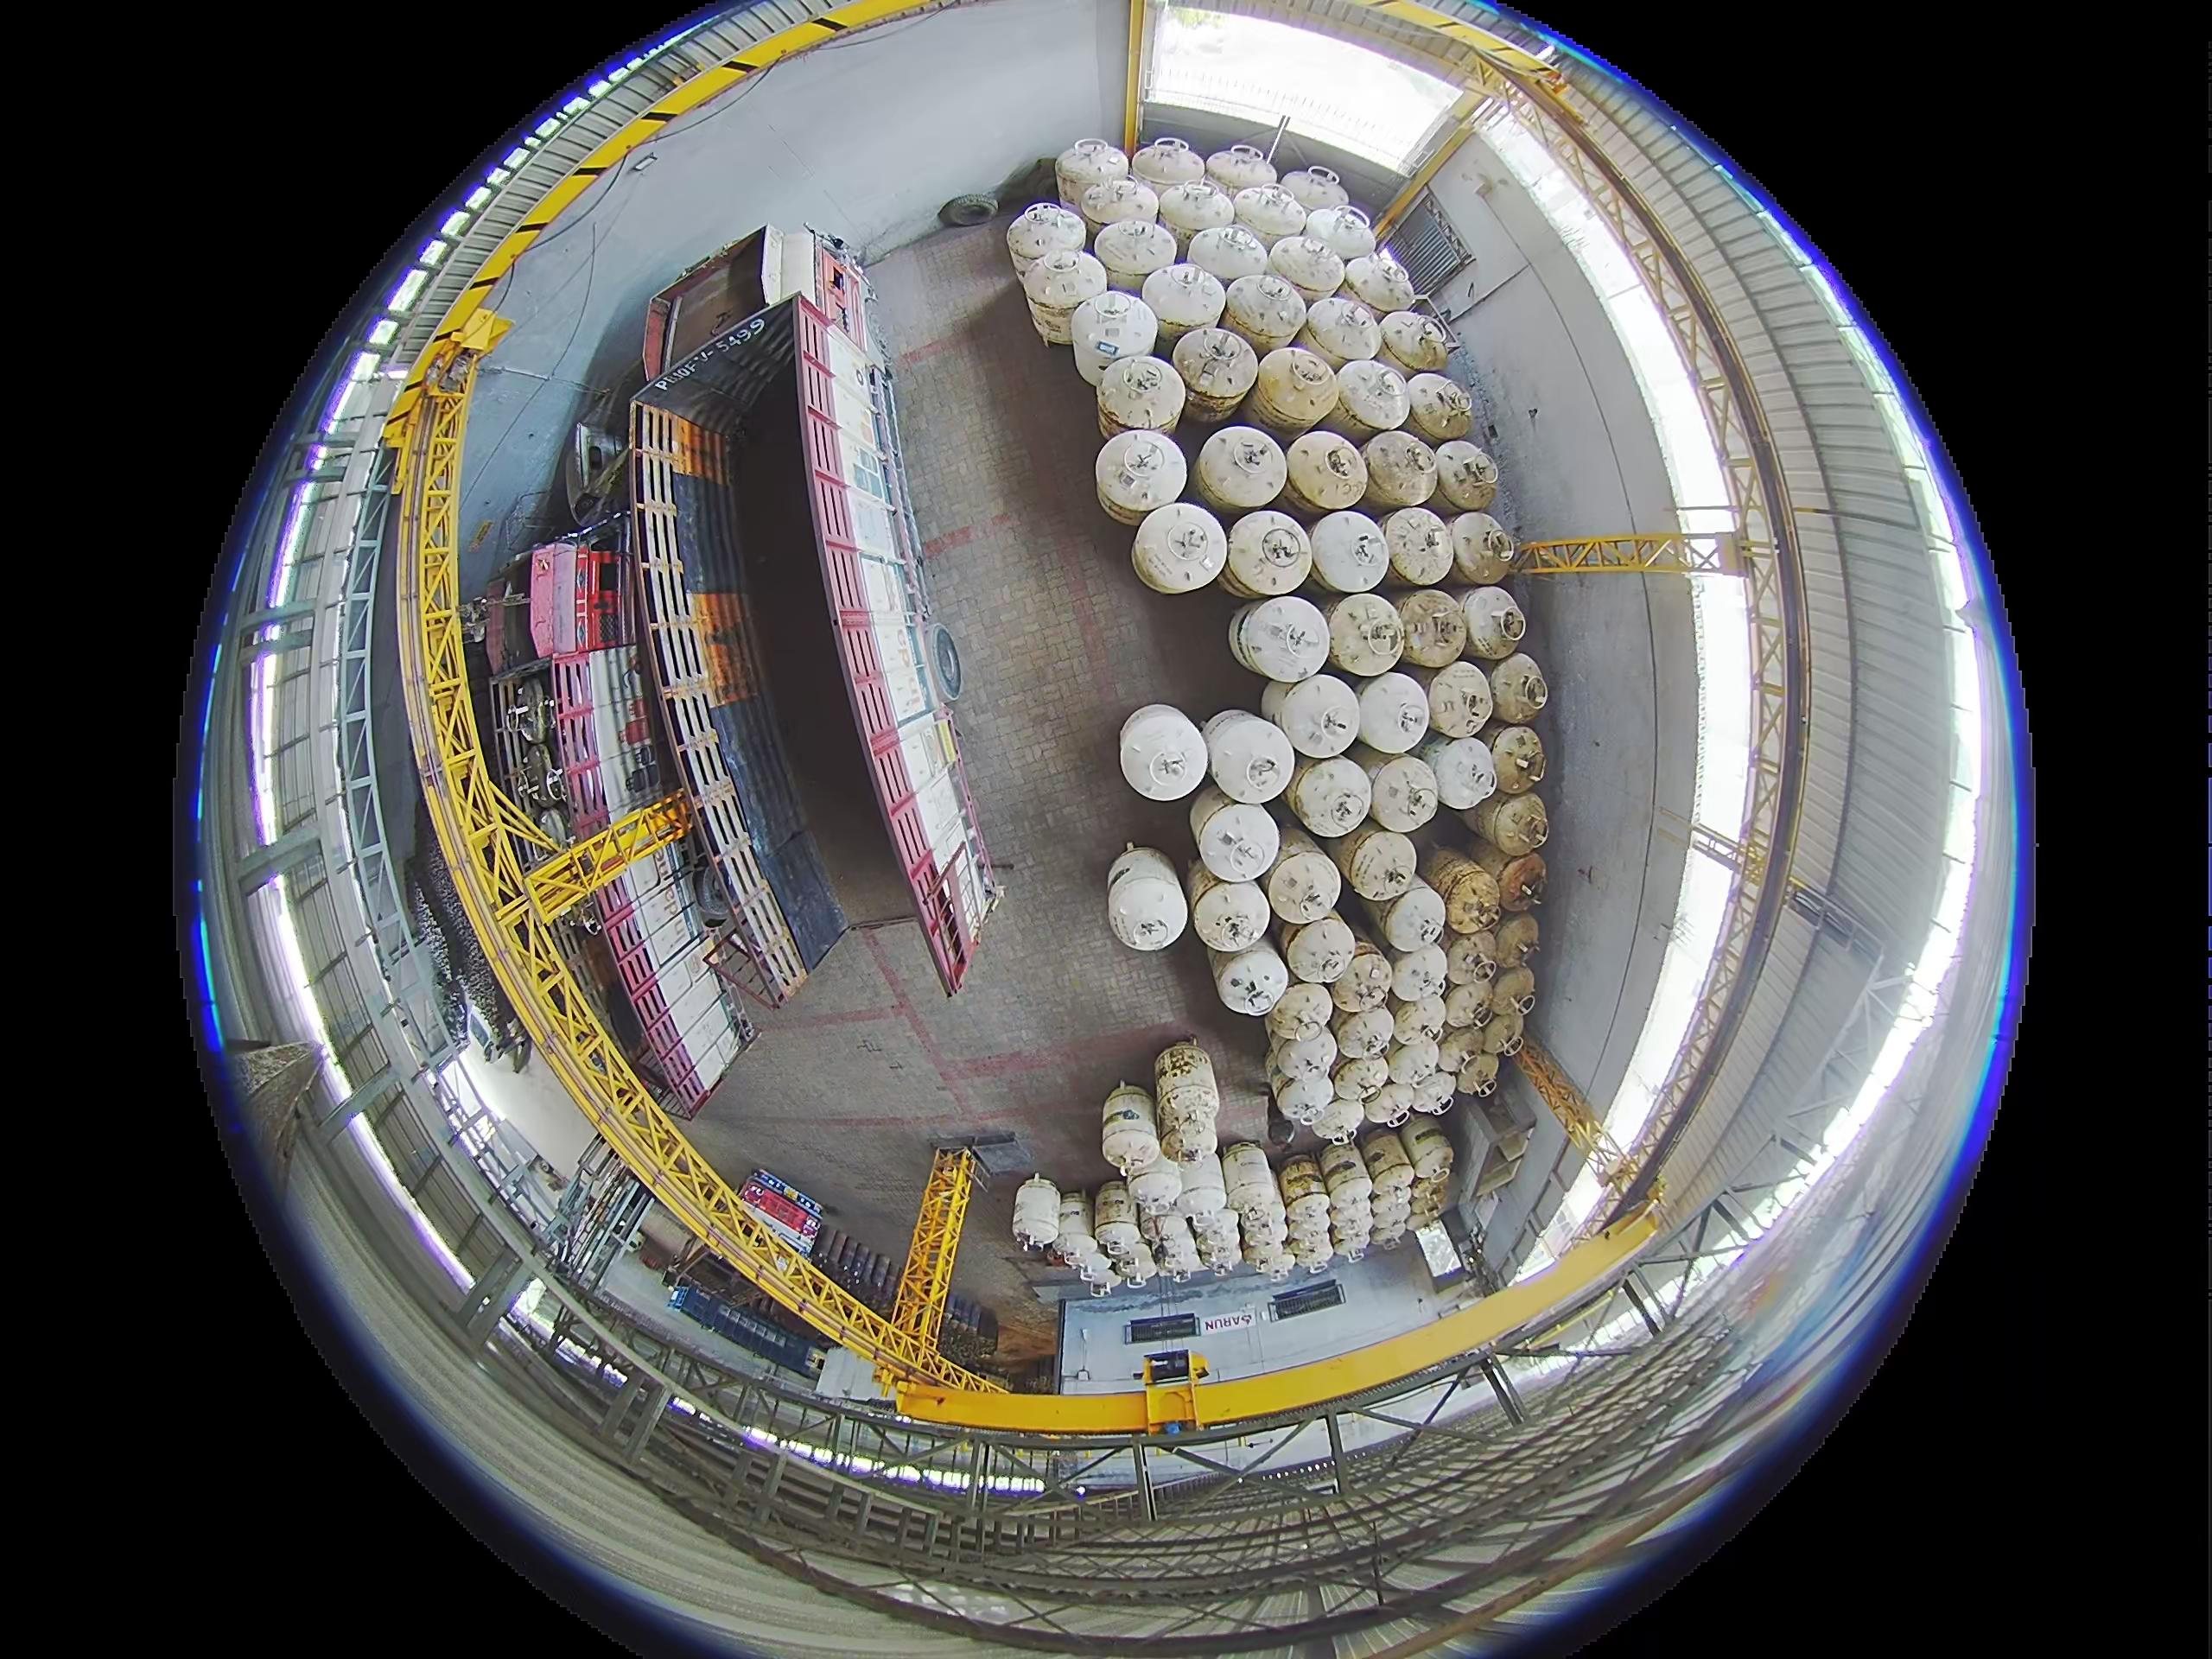cylinder: (1117, 703, 1207, 803), (1132, 502, 1228, 594), (1205, 711, 1297, 806), (1109, 839, 1189, 949), (1234, 594, 1328, 684), (1253, 346, 1342, 438), (1172, 325, 1259, 419), (1197, 425, 1287, 514), (1225, 510, 1315, 597), (1275, 671, 1363, 761), (1194, 798, 1283, 884), (1287, 755, 1374, 842), (1284, 430, 1369, 518), (1308, 508, 1392, 594), (1221, 271, 1308, 353), (1425, 848, 1507, 935), (1070, 290, 1151, 378), (1097, 352, 1182, 434), (1141, 261, 1226, 343), (1153, 1044, 1217, 1152), (1335, 822, 1417, 906), (1323, 594, 1405, 676), (1332, 355, 1411, 439), (1191, 874, 1274, 952), (1363, 429, 1440, 515), (1356, 671, 1431, 755), (1394, 589, 1471, 670), (1383, 505, 1458, 587), (1365, 754, 1440, 834), (1302, 294, 1382, 368), (1425, 658, 1497, 741), (1424, 734, 1498, 814), (1212, 944, 1289, 1020), (1188, 221, 1273, 289), (1156, 179, 1235, 252), (1470, 785, 1548, 858), (1266, 233, 1345, 304), (1280, 912, 1356, 985), (1096, 218, 1174, 288), (1056, 139, 1129, 210), (1459, 585, 1527, 660), (1007, 202, 1082, 270), (1083, 177, 1160, 244), (1402, 372, 1472, 444), (1379, 309, 1453, 378), (1451, 511, 1520, 583), (1433, 440, 1501, 512), (1301, 204, 1377, 269), (1233, 185, 1309, 250), (1382, 879, 1448, 952), (1129, 137, 1206, 200), (1263, 980, 1335, 1047), (1341, 250, 1415, 314), (1270, 823, 1338, 892), (1485, 724, 1548, 797), (1486, 652, 1548, 724), (1330, 947, 1395, 1013), (1205, 143, 1277, 200), (1018, 290, 1079, 356), (1389, 946, 1450, 1010), (1268, 1028, 1334, 1088), (1331, 1007, 1395, 1066), (1441, 927, 1501, 992), (1272, 1068, 1335, 1128), (1173, 1148, 1230, 1215), (1384, 1036, 1444, 1098), (1124, 1158, 1183, 1221), (1220, 1144, 1277, 1209), (1280, 167, 1350, 219), (1399, 1119, 1454, 1182), (1260, 677, 1313, 742), (1359, 1127, 1414, 1189), (1192, 1212, 1243, 1276), (1151, 1214, 1202, 1279), (1326, 1190, 1374, 1257), (1308, 1094, 1366, 1147), (1442, 979, 1497, 1033), (1497, 853, 1548, 912), (1333, 1055, 1391, 1105), (1477, 1008, 1528, 1065), (1488, 964, 1536, 1022), (1472, 1147, 1524, 1201), (1493, 913, 1541, 969), (1277, 1154, 1326, 1208), (1360, 1083, 1418, 1128), (1284, 1224, 1334, 1275), (1437, 1023, 1486, 1073), (1317, 1141, 1366, 1192), (1281, 1192, 1334, 1238), (1402, 1182, 1449, 1233), (1457, 1050, 1501, 1097), (1366, 1219, 1408, 1252)
truck: (629, 228, 999, 1001), (468, 512, 751, 1117), (465, 412, 637, 722), (460, 564, 595, 900), (642, 218, 856, 406)
